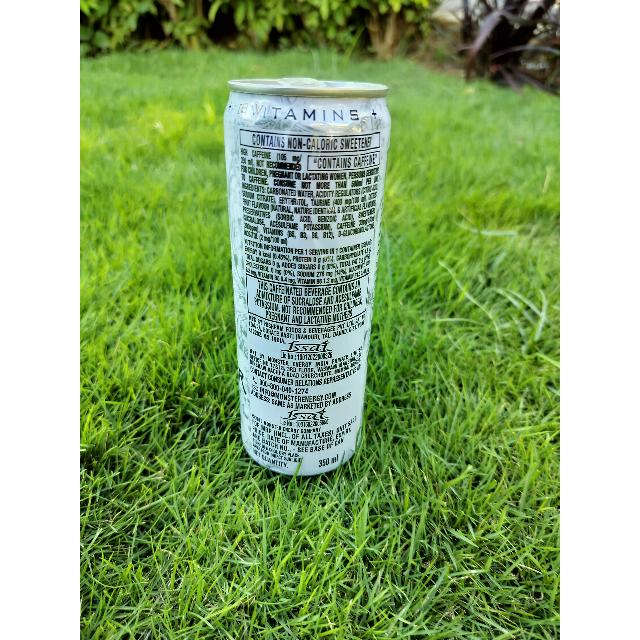White Monster: (215, 75, 402, 472)
